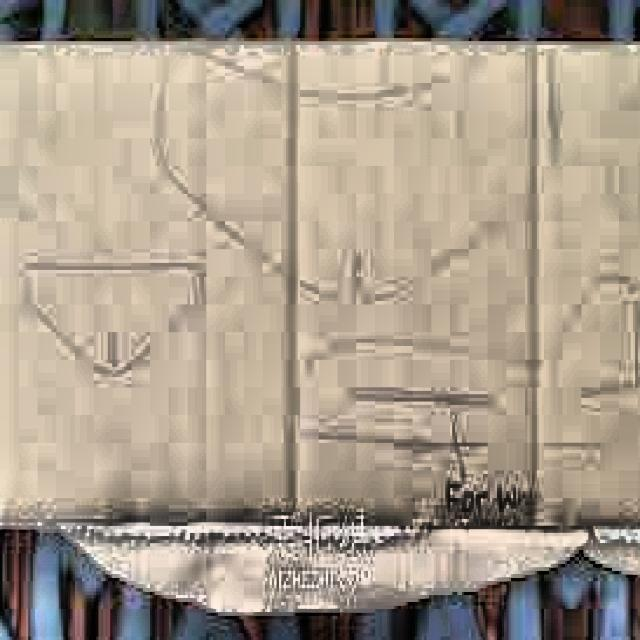cardboard: (0, 34, 638, 609)
